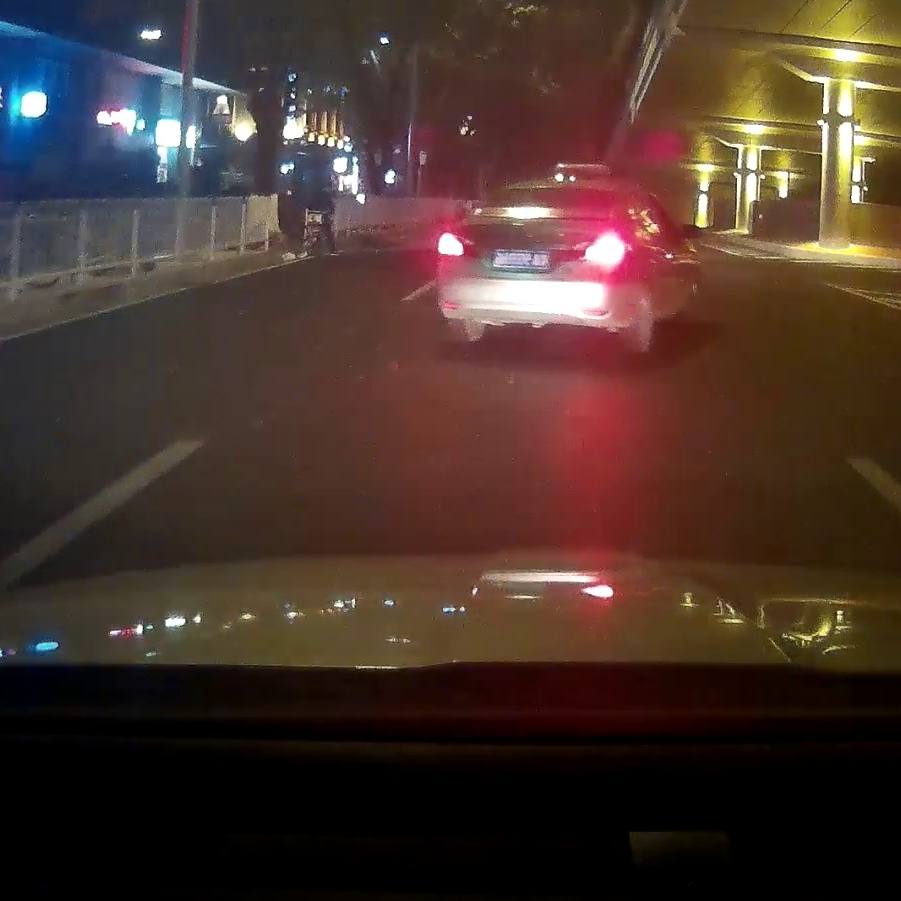L_light: (437, 230, 480, 259)
R_light: (578, 232, 632, 263)
T_light: (539, 188, 561, 193)
night-right: (436, 179, 638, 353)
